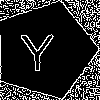Y: (20, 25, 55, 71)
